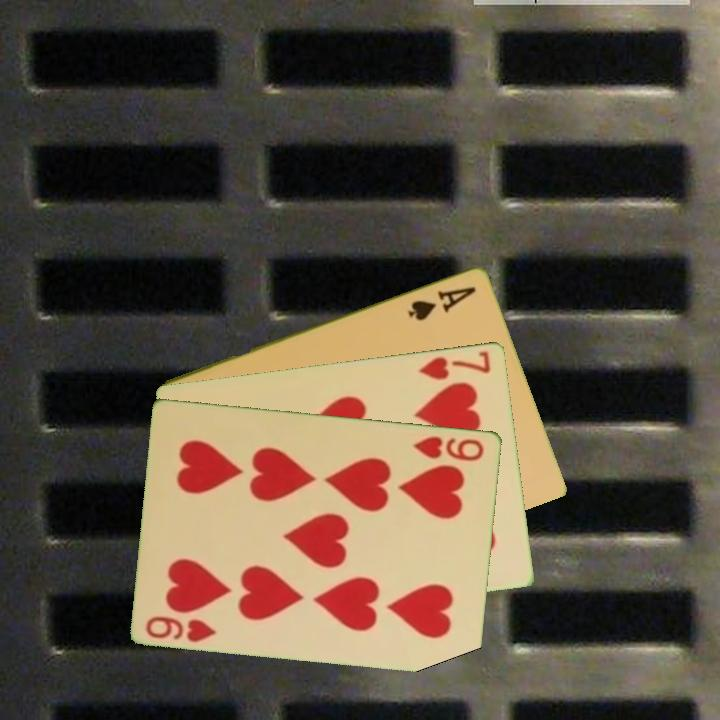7h: (415, 347, 494, 382)
9h: (142, 612, 220, 645), (411, 432, 487, 464)
As: (405, 282, 479, 323)
